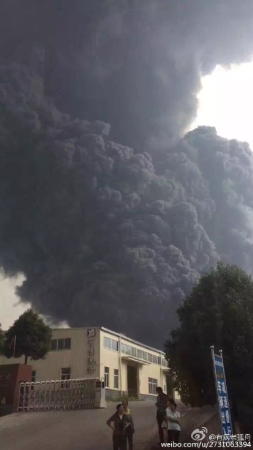smoke: (7, 5, 248, 295)
